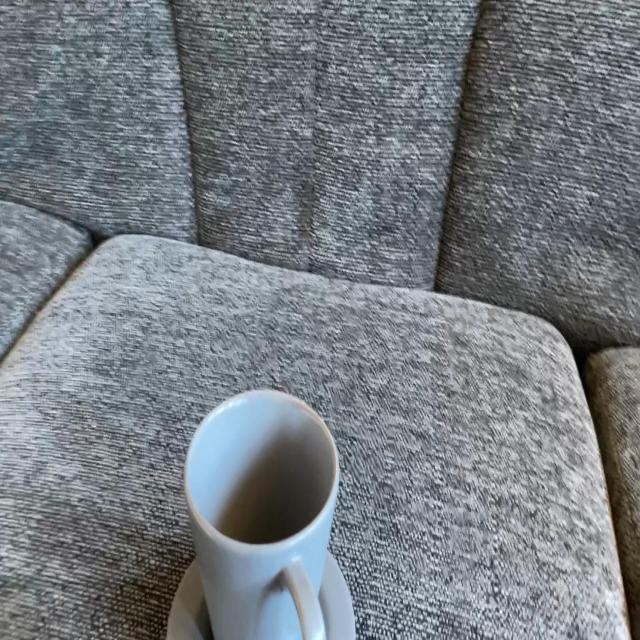cup: (172, 391, 358, 631)
